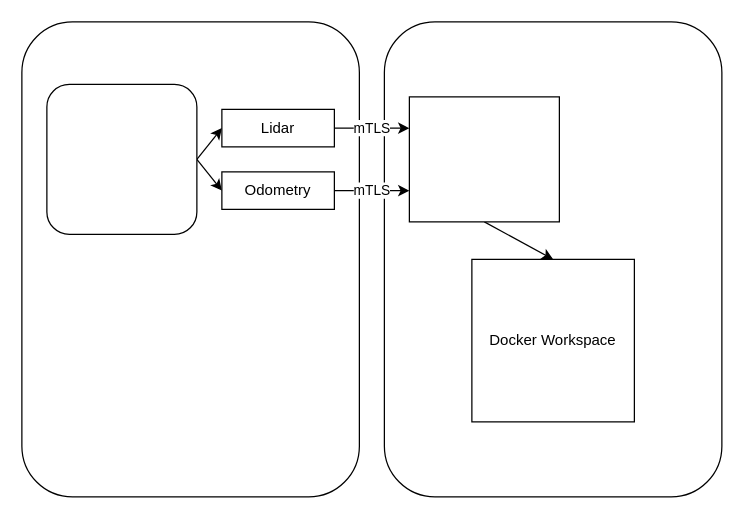
The diagram is 744 pixels wide and 519 high, and some of its shapes have lost their labels. Each missing label, with the box of its shape:
DTaaS Execution Manager: (408, 96, 559, 222)
Physical Car: (46, 83, 197, 234)
